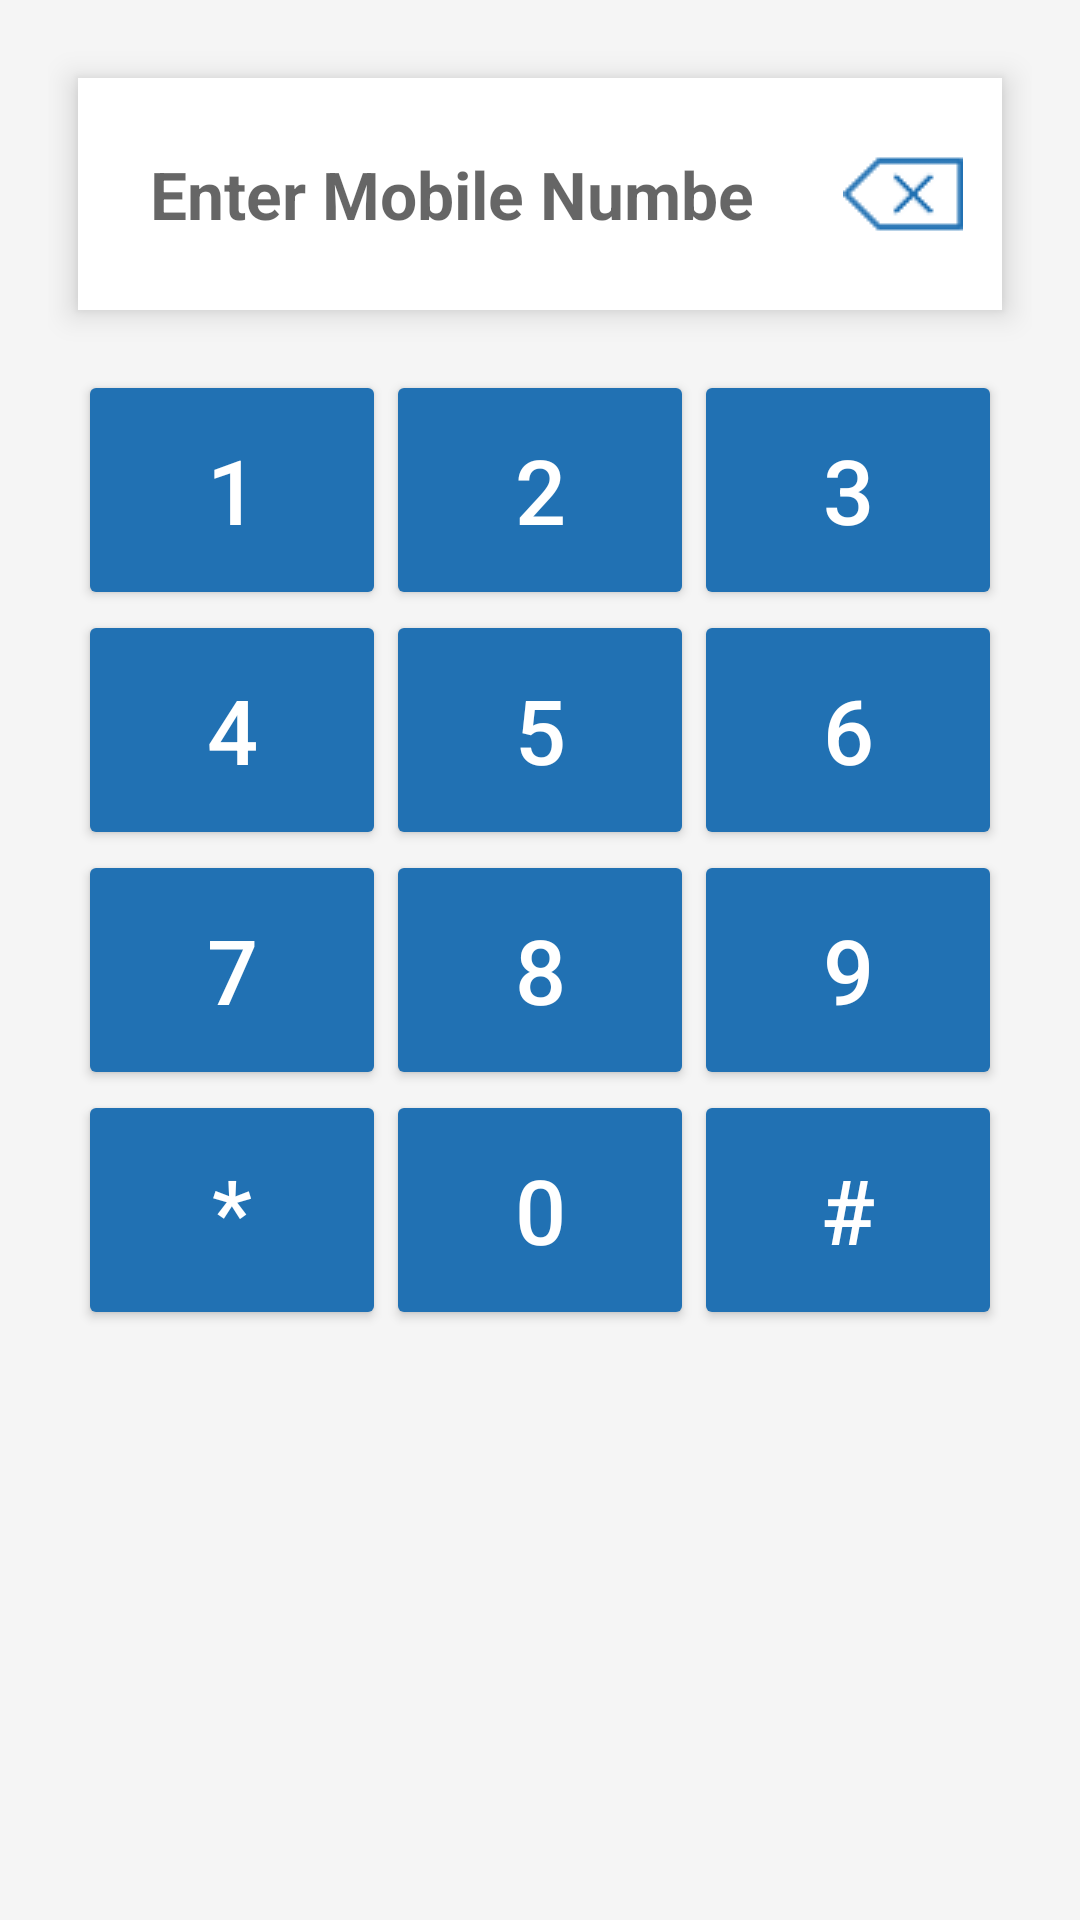

Icons on this 1080px x 1920px Android screen, each with its box as region(x1, y1, x2, y2):
Backspace: region(843, 157, 963, 231)
